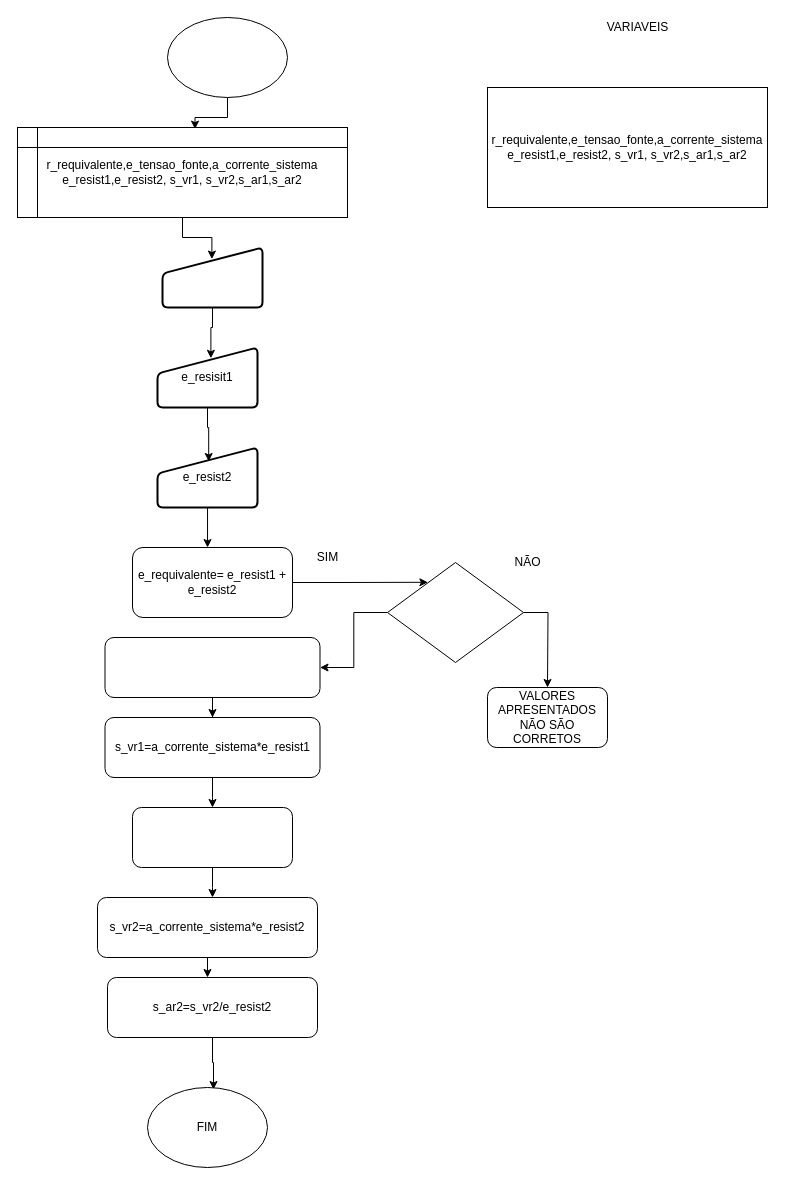
Image size: 785x1185. Some labels were removed from this diagram. The centre of each missing label's shape, as x and y in pixels:
"e_requivalente>0" goes at point 455,612.
"e_tensao" goes at point 212,277.
"e_tensao_fonte =a_corrente_sistema* e_requivalente" goes at point 212,667.
"INICIO" goes at point 227,57.
"s_ar1= s_vr1/e_resist1" goes at point 212,837.
